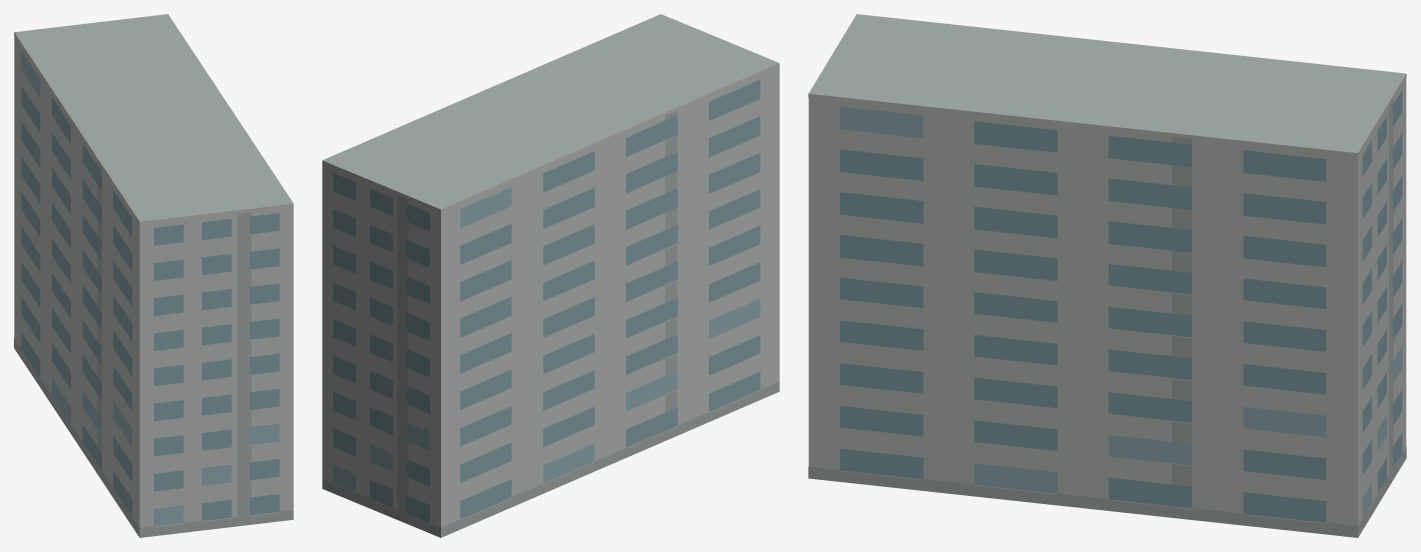
File: residential-2293359d-1543-4896-883f-fe23cf4350c5.glb
3 views of the same model, side by side, from view 1: azimuth 30°, elevation 25°; view 2: azimuth 150°, elevation 25°; view 3: azimuth 270°, elevation 25° (orthographic). The views are drawn at different scales.
Parts seen in each view (by area): view 1: residential-2293359d-1543-4896-883f-fe23cf4350c5.tmp; view 2: residential-2293359d-1543-4896-883f-fe23cf4350c5.tmp; view 3: residential-2293359d-1543-4896-883f-fe23cf4350c5.tmp.
Boxes of the visible parts, x1,y1,x2,y2 form: residential-2293359d-1543-4896-883f-fe23cf4350c5.tmp: (14,14,293,537); residential-2293359d-1543-4896-883f-fe23cf4350c5.tmp: (322,14,779,537); residential-2293359d-1543-4896-883f-fe23cf4350c5.tmp: (808,14,1406,537).
Size of the model in its own units: 18.63 by 24 by 33.82.
